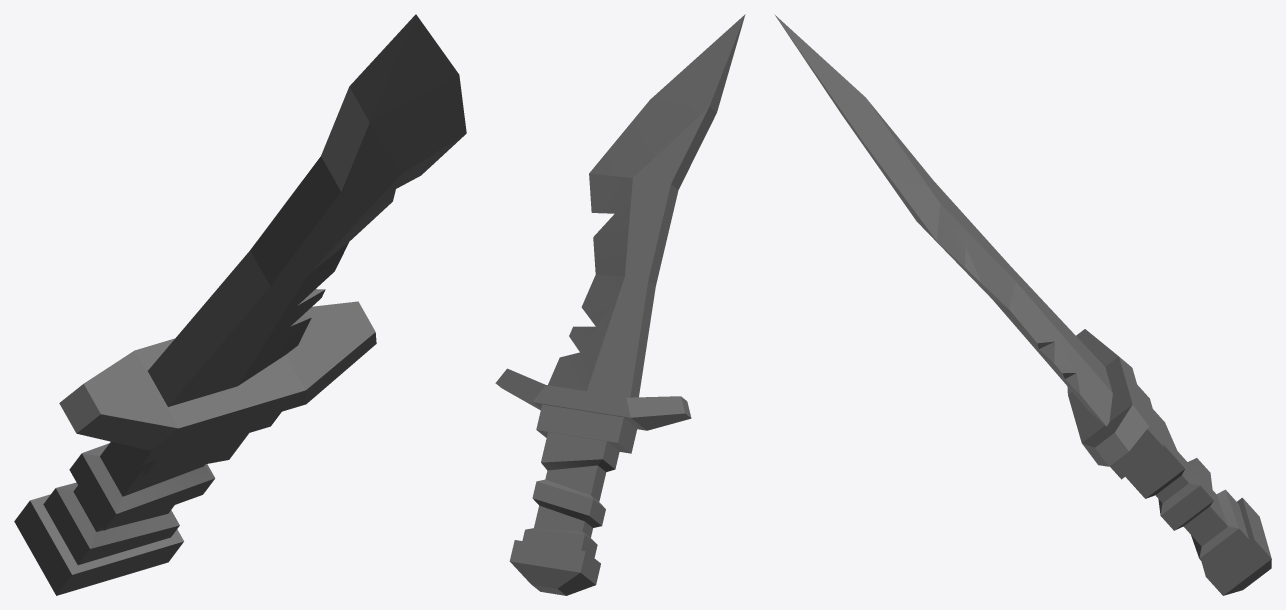
The model's file is sa-dagger-01.glb.
3 renders of one model, left to right at view 1: azimuth 30°, elevation 25°; view 2: azimuth 150°, elevation 25°; view 3: azimuth 270°, elevation 25°, orthographic. The views are drawn at different scales.
Visible parts, largest first — view 1: sa-dagger-01; view 2: sa-dagger-01; view 3: sa-dagger-01.
Boxes of the visible parts, x1=… form: sa-dagger-01: x1=14, y1=14, x2=466, y2=595; sa-dagger-01: x1=495, y1=14, x2=745, y2=595; sa-dagger-01: x1=774, y1=14, x2=1271, y2=595.
Bounding box in the file's own units: 0.1495 × 0.3577 × 0.2861.
1 material, 1 textured.
